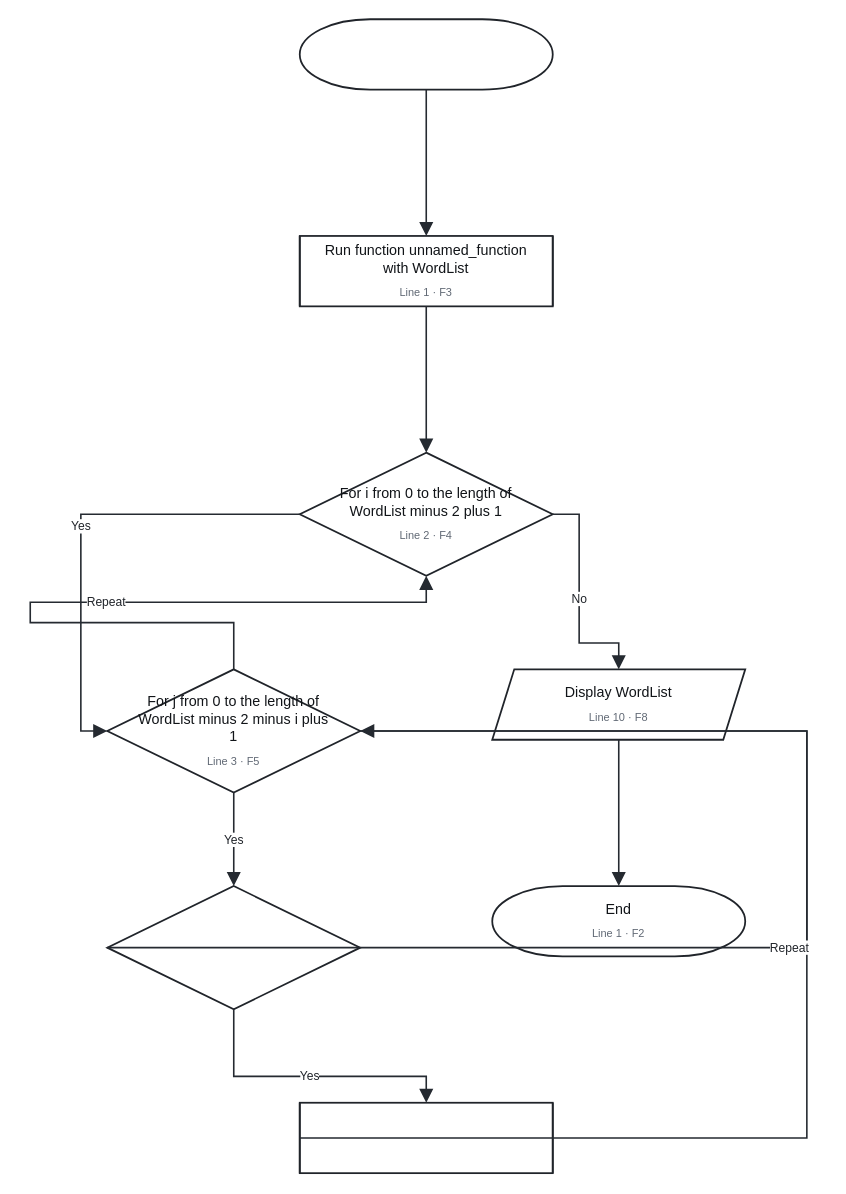
This 846x1194 diagram has some shape labels left out. The box of each missing label's shape, as (x1, y1, x2, y2) in pixels:
Call swap with WordList, j, j plus 1 Line 5 · F7: (298, 1101, 553, 1173)
Item j of WordList is greater than item j plus 1 of WordList? Line 4 · F6: (106, 885, 361, 1010)
Start Line 1 · F1: (298, 18, 553, 90)
